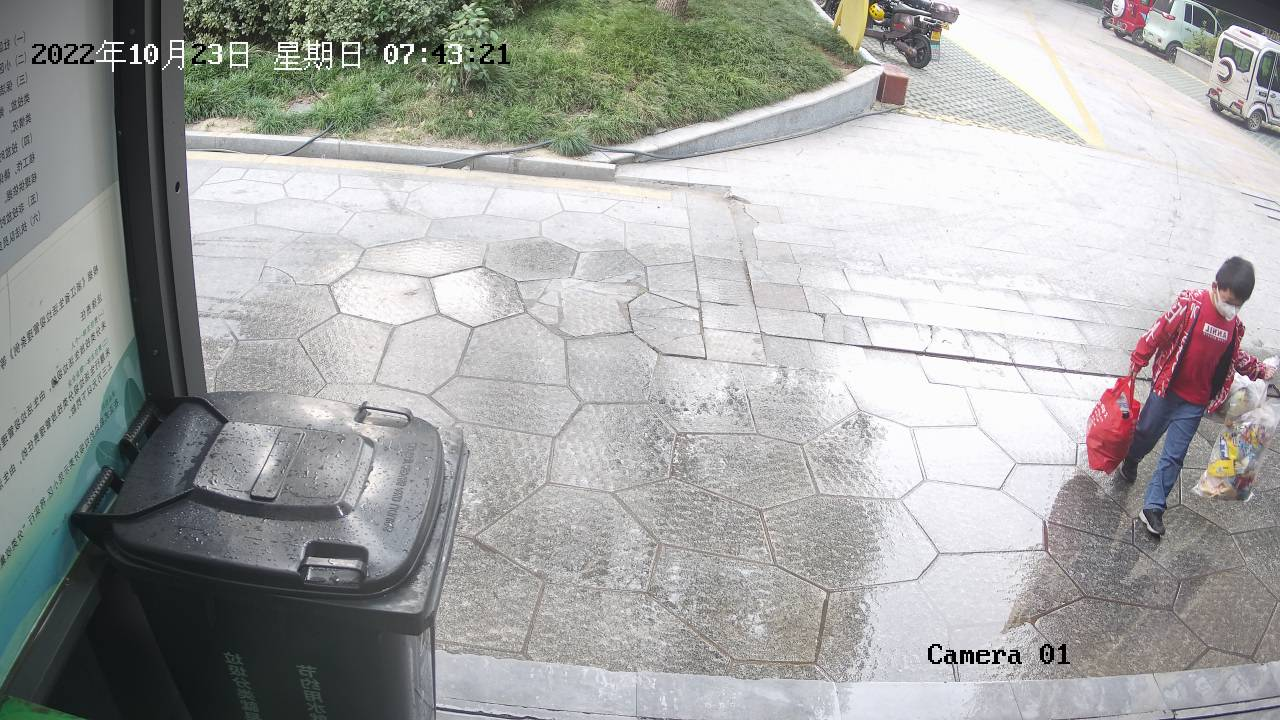garbage-bag: (1187, 373, 1271, 506), (1081, 363, 1147, 480)
person: (1113, 251, 1277, 544)
